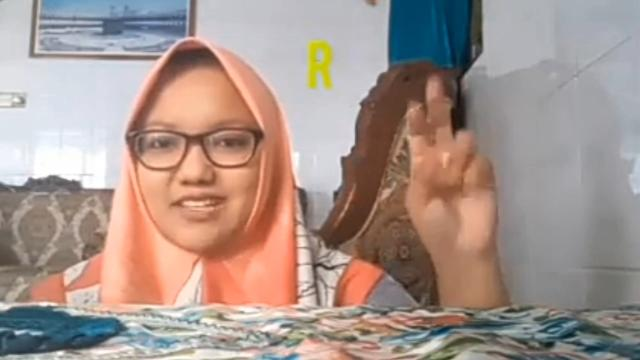R: (398, 75, 514, 258)
